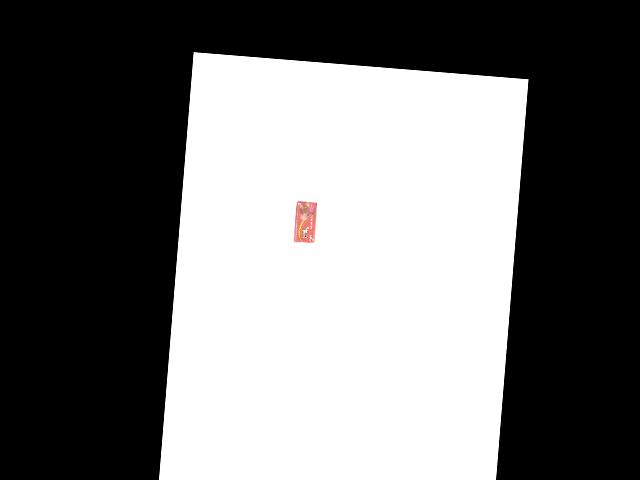chocolate: (291, 200, 317, 245)
